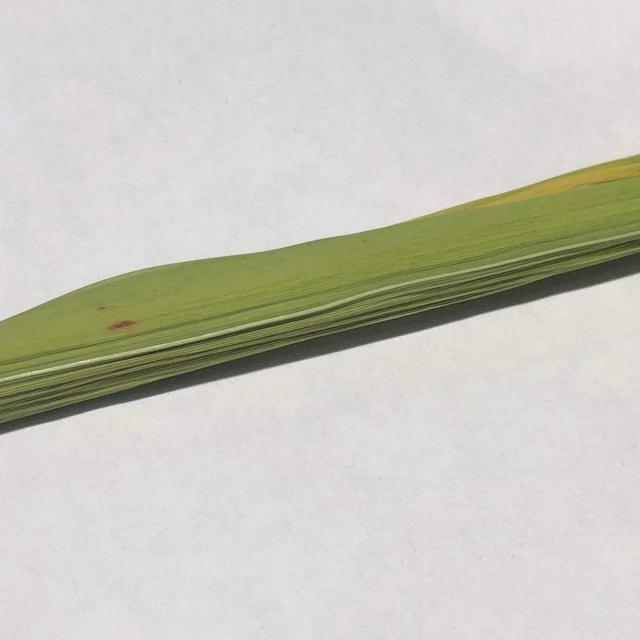brownspots: (98, 316, 157, 334), (82, 300, 117, 316)
